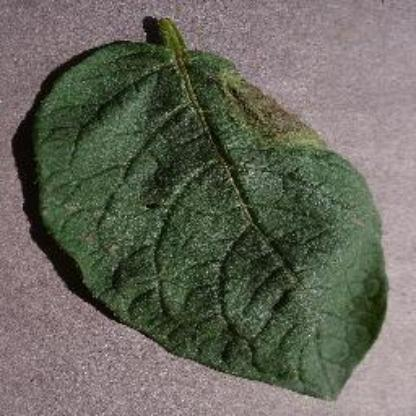Late-Blight: (28, 19, 400, 415)
